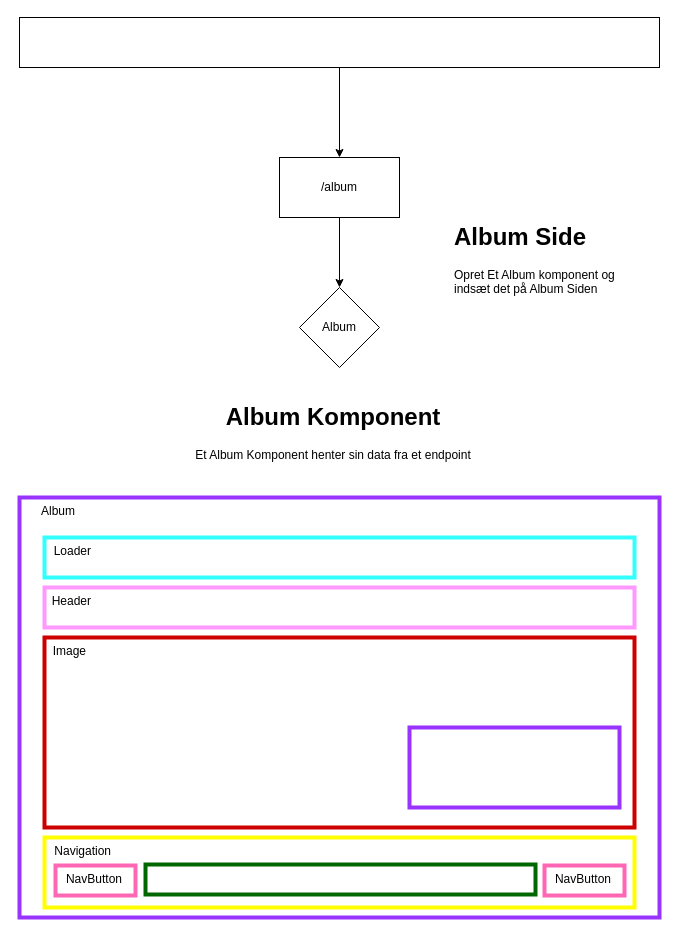
Some shapes in this 678 by 937 pixel diagram are drawn without their labels. Here are the shapes that lost their labels. From the top down, the centre of each, then its label:
point (339, 42): /home /album
point (514, 767): ImageDetail
point (340, 879): NavDots
